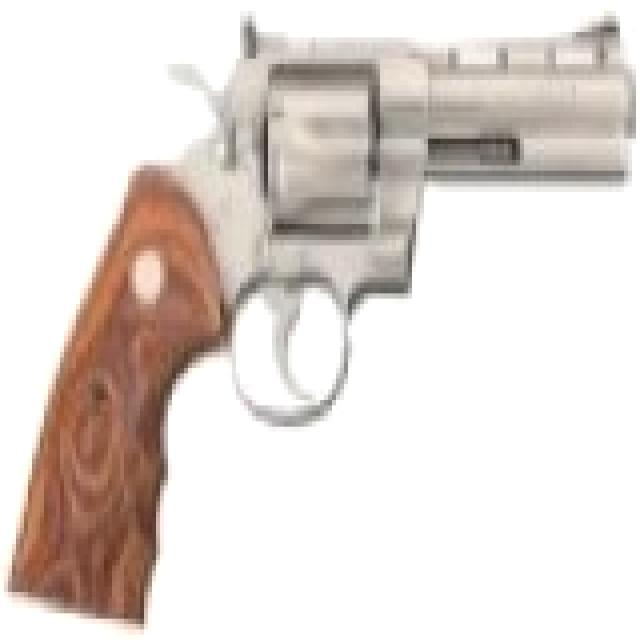pistol: (12, 16, 636, 624)
